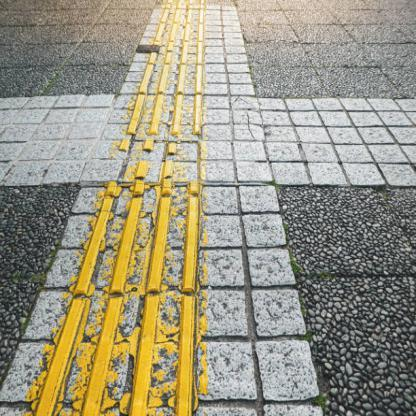podotacti: (31, 4, 205, 410)
